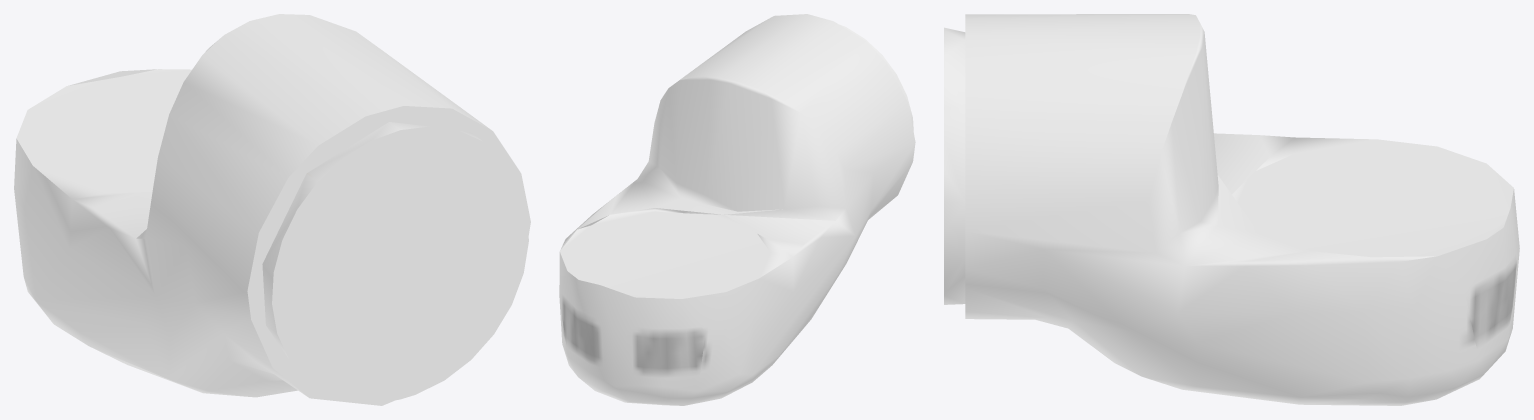
File: link_wrist.3obj.obj.glb
3 renders of one model, left to right at view 1: azimuth 30°, elevation 25°; view 2: azimuth 150°, elevation 25°; view 3: azimuth 270°, elevation 25°, orthographic. The views are drawn at different scales.
Parts seen in each view (by area): view 1: link_wrist.3obj.obj; view 2: link_wrist.3obj.obj; view 3: link_wrist.3obj.obj.
Boxes of the visible parts, left/top/right/bottom form: link_wrist.3obj.obj: left=14, top=14, right=530, bottom=405; link_wrist.3obj.obj: left=559, top=14, right=915, bottom=405; link_wrist.3obj.obj: left=944, top=14, right=1519, bottom=405.
Size of the model in its own units: 0.0816 by 0.099 by 0.1501.
Materials: 1 (1 with a texture image).
